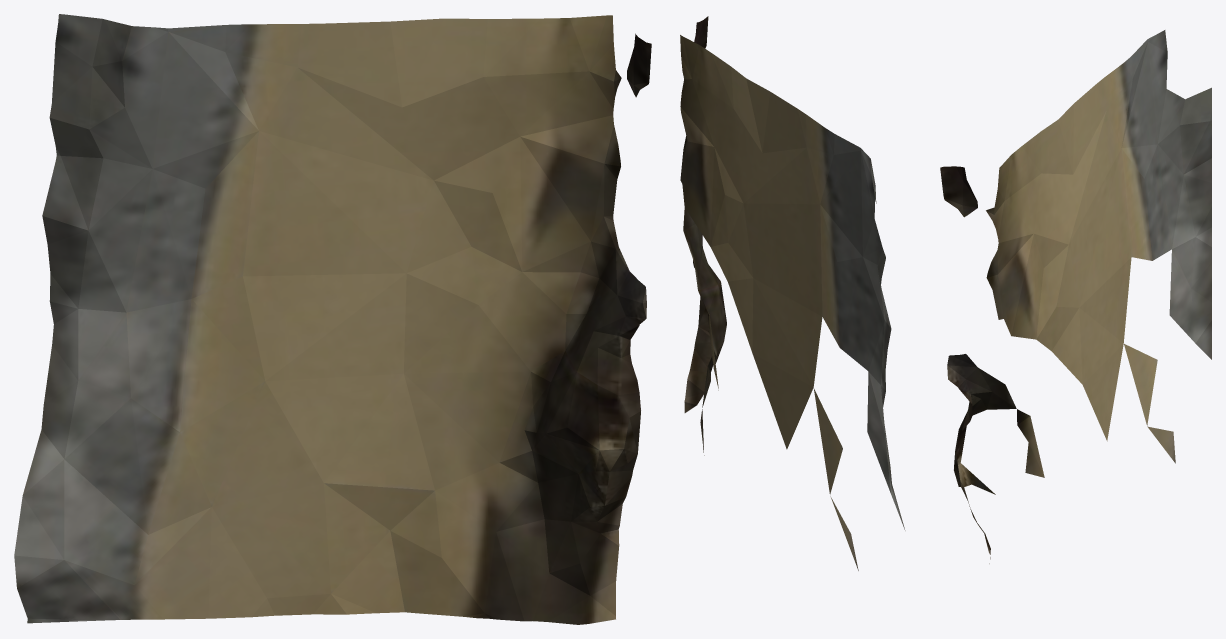
3 views of the same model, side by side, from view 1: azimuth 30°, elevation 25°; view 2: azimuth 150°, elevation 25°; view 3: azimuth 270°, elevation 25° (orthographic). The views are drawn at different scales.
Bounding box in the file's own units: 0.6682 × 0.8374 × 0.4508.
2 materials, 2 textured.
